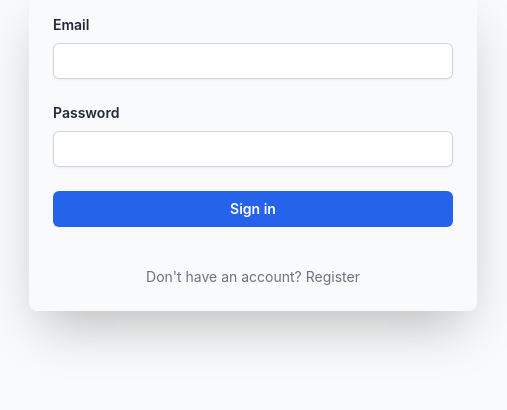
Test: LoginForm › should show error message on login failure
The width and height of the screenshot is (507, 410).
In the field labelled "Email": [253, 61] box [53,43,453,79], type "test@example.com"
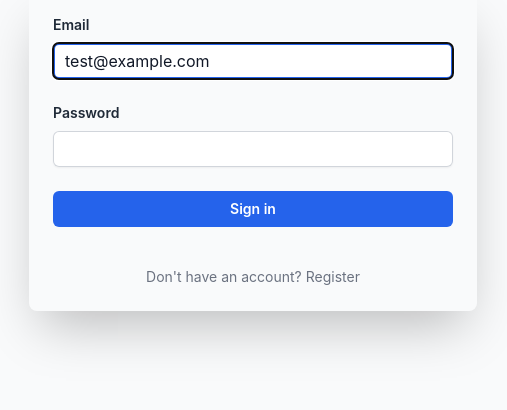
In the password field labelled "Password": [253, 149] box [53,131,453,167], type "WrongPassword123"
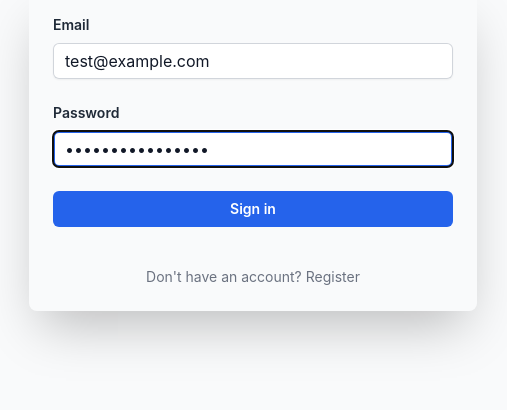
Click the button "Sign in": [253, 209] box [53,191,453,227]
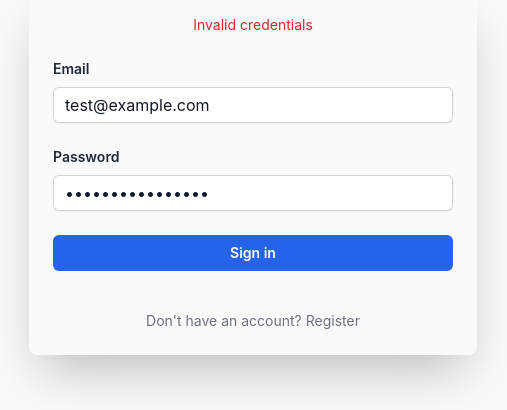
Expected: the text "Invalid credentials" is shown, [193,16,313,33]
